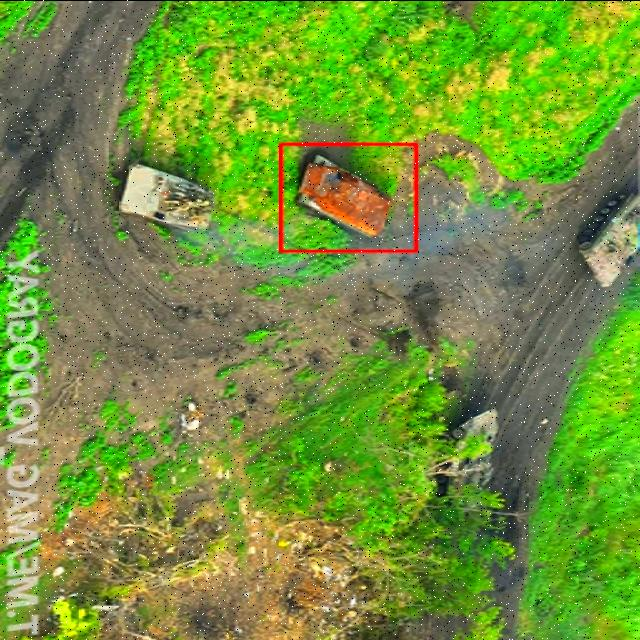APC-IFV: (422, 402, 514, 516), (291, 149, 400, 240), (111, 161, 231, 241), (574, 189, 640, 291)
